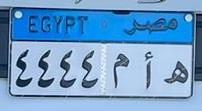4: (13, 49, 34, 88), (38, 49, 56, 87), (81, 50, 98, 90), (59, 49, 76, 89)
alif: (142, 50, 154, 90)
haa: (163, 59, 190, 86)
meem: (112, 52, 131, 89)
